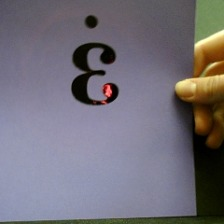violet3: (64, 11, 123, 115)
